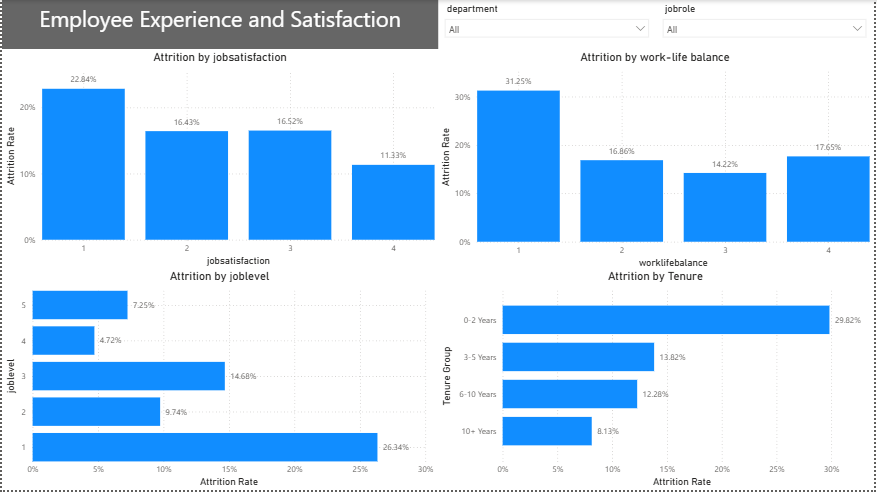

The page's visual inventory and layout, read from the dashboard file:
{"tool":"powerbi","page":{"name":"Employee Experience & Satisfaction","canvas":[1280,720],"ordinal":2},"visuals":[{"type":"clusteredColumnChart","title":"Attrition by jobsatisfaction","fields":{"Y":["Measure.Attrition Rate"],"Category":["fact_employee_attrition.jobsatisfaction"]},"box":[0,73.5,640.7,321.8],"z":0},{"type":"clusteredColumnChart","title":"Attrition by work-life balance","fields":{"Y":["Measure.Attrition Rate"],"Category":["fact_employee_attrition.worklifebalance"]},"box":[639.2,73.5,640.7,324.7],"z":1},{"type":"barChart","title":"Attrition by Tenure","fields":{"Category":["fact_employee_attrition.Tenure Group"],"Y":["Measure.Attrition Rate"]},"box":[640.7,395.3,639.2,324.7],"z":2},{"type":"barChart","title":"Attrition by joblevel","fields":{"Category":["dim_employee.joblevel"],"Y":["Measure.Attrition Rate"]},"box":[0,395.3,639.2,324.7],"z":3},{"type":"slicer","fields":{"Values":["dim_department.department"]},"box":[640.7,0,320.3,72],"z":4},{"type":"slicer","fields":{"Values":["dim_jobrole.jobrole"]},"box":[961,0,318.9,72],"z":5},{"type":"textbox","box":[0,0,640.7,72],"z":6}]}

Visuals, with their boxes in screenshot pixels (x1, y1, x2, y2), scaled from the page's 1280x720 canvas onto the 877x493 screenshot:
"Attrition by jobsatisfaction" clusteredColumnChart: bbox=[0, 50, 439, 271]
"Attrition by work-life balance" clusteredColumnChart: bbox=[438, 50, 876, 273]
"Attrition by Tenure" barChart: bbox=[439, 271, 876, 492]
"Attrition by joblevel" barChart: bbox=[0, 271, 438, 492]
slicer - dim_department.department: bbox=[439, 0, 658, 49]
slicer - dim_jobrole.jobrole: bbox=[658, 0, 876, 49]
textbox: bbox=[0, 0, 439, 49]
